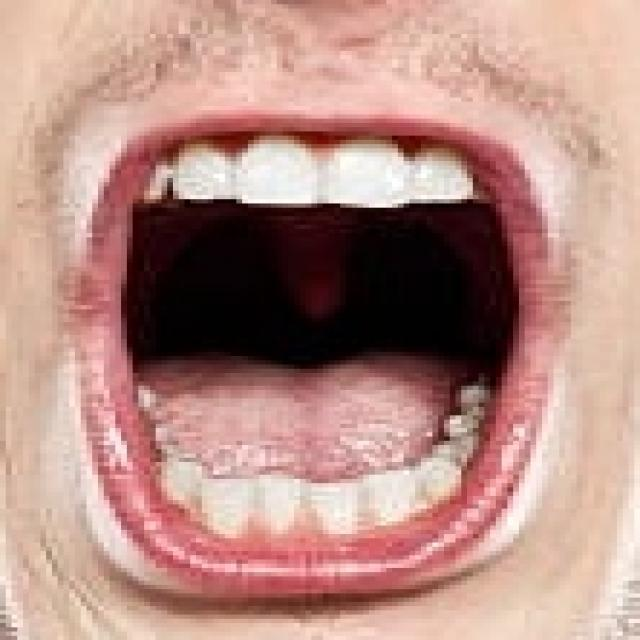open-mouth: (58, 106, 570, 598)
